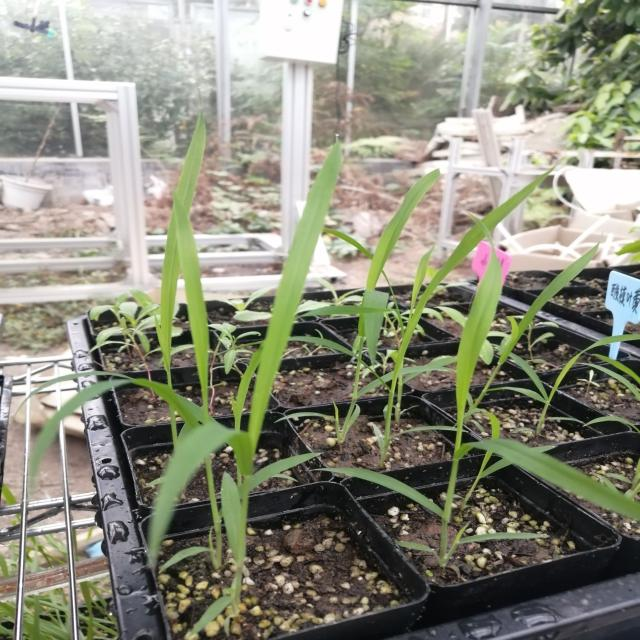crabgrass: (64, 155, 364, 572), (376, 249, 615, 551)
